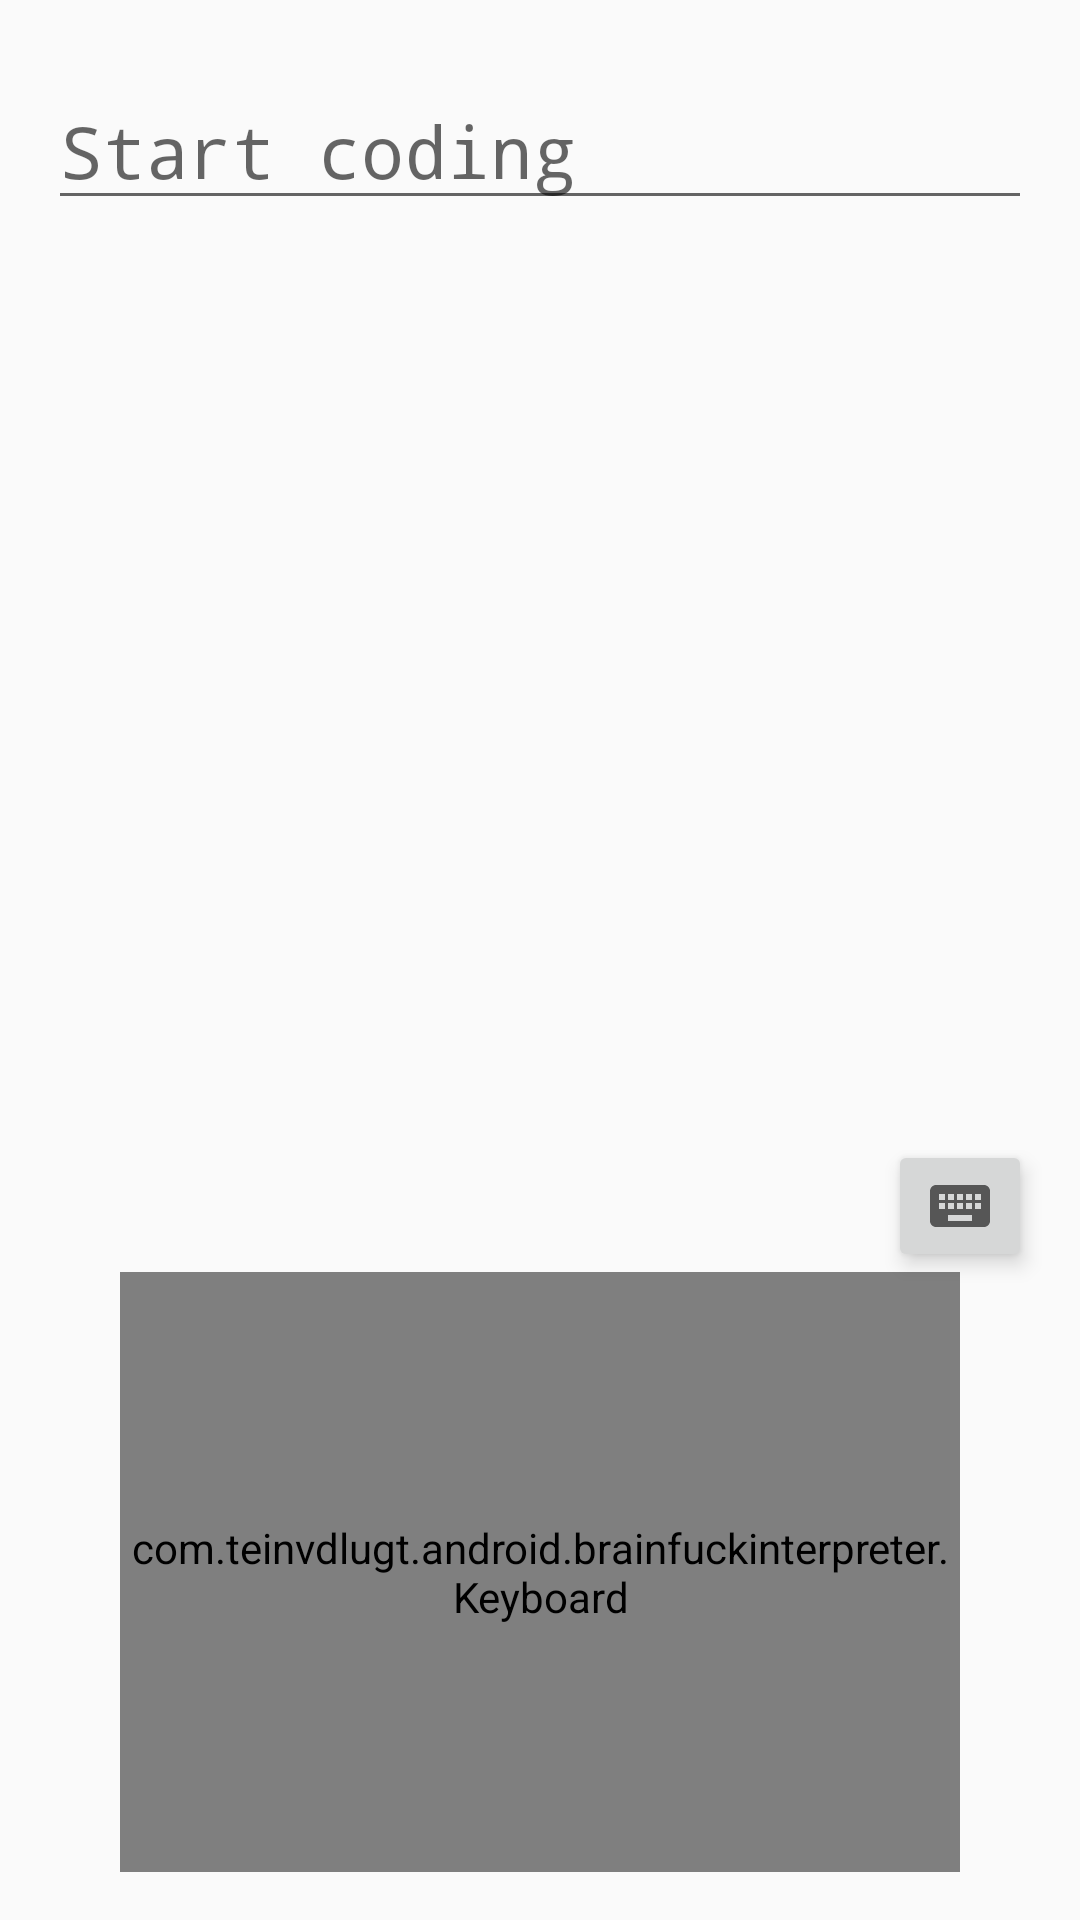

Locate icon controls on the screen. Image size 1080 × 1920, boxes as (x1, y1, x2, y2).
Use system keyboard: (900, 1158, 1022, 1260)
